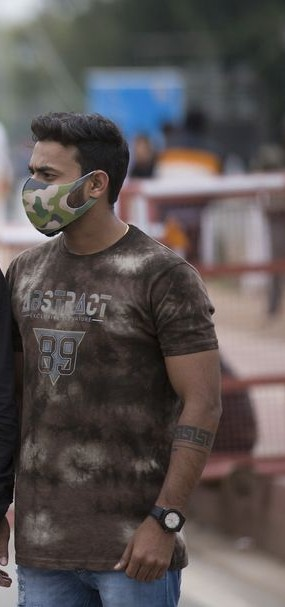with_mask: (20, 123, 123, 241)
